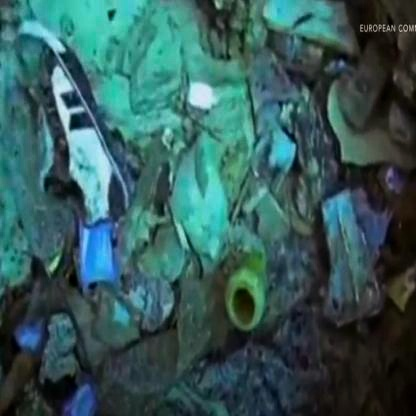can: (215, 261, 267, 329)
misc: (33, 37, 141, 257)
plastic: (324, 177, 389, 334)
